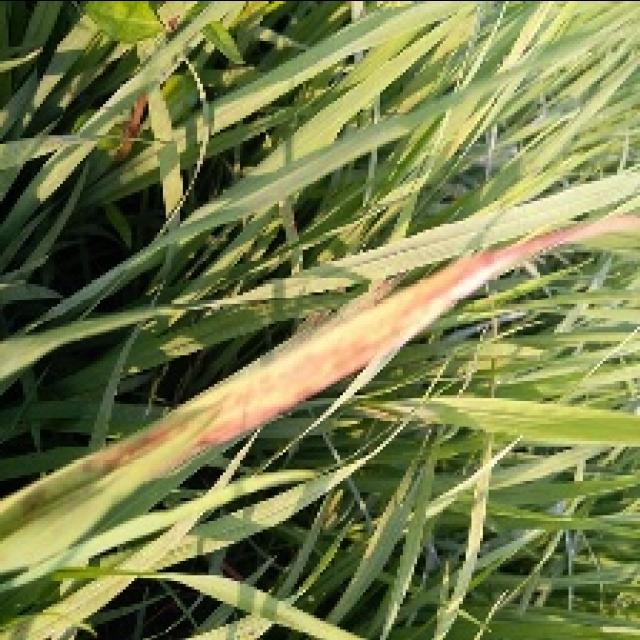Unhealthy: (180, 336, 407, 464), (401, 218, 640, 318), (121, 0, 193, 160), (84, 420, 188, 464)
